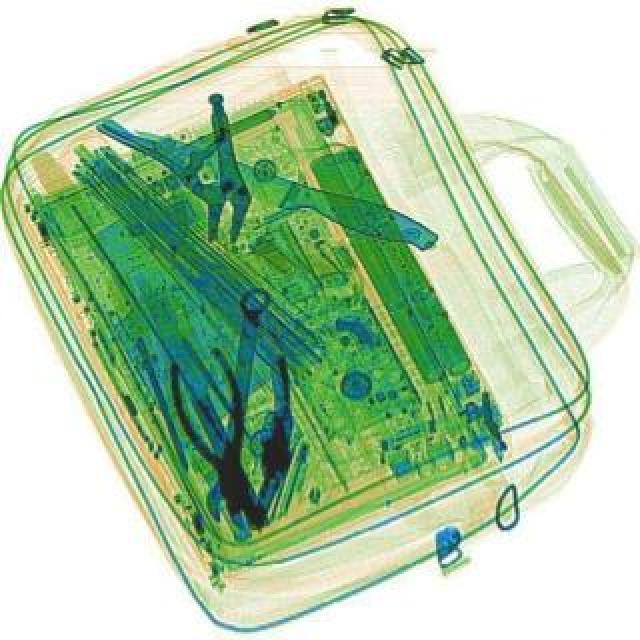gun: (214, 358, 328, 538)
knife: (124, 120, 440, 264), (130, 274, 284, 534)
scissors: (202, 290, 278, 528)
wrench: (160, 346, 272, 532)
